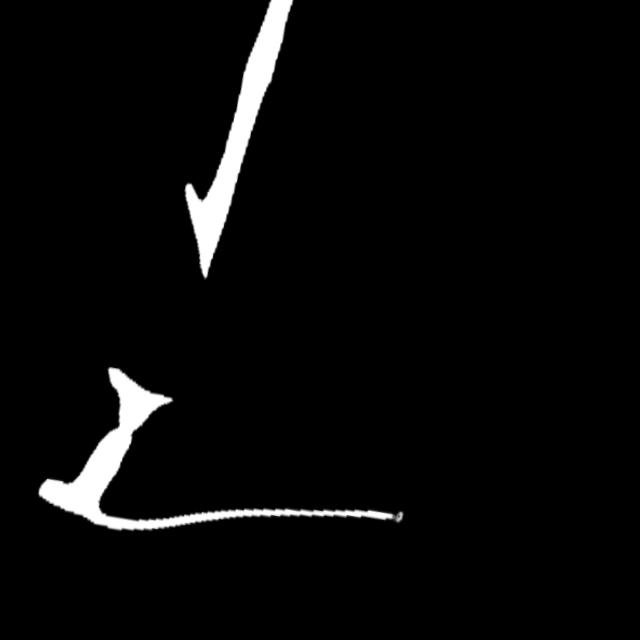stp: (377, 510, 406, 534)
